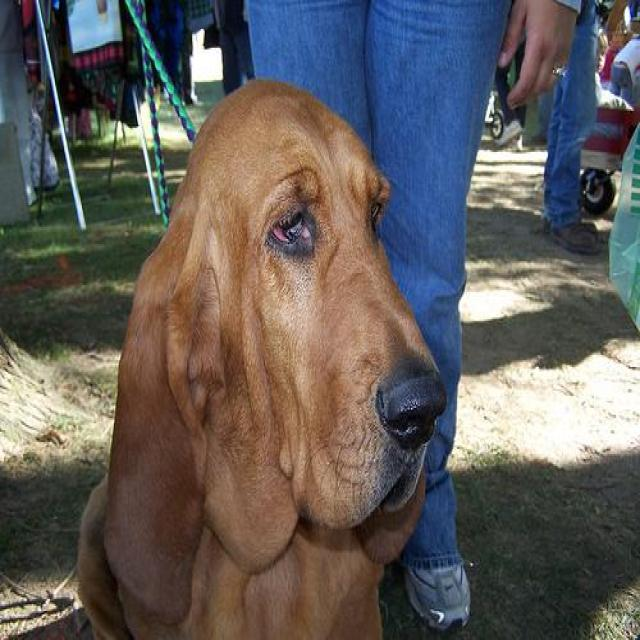bloodhound: (72, 75, 448, 637)
